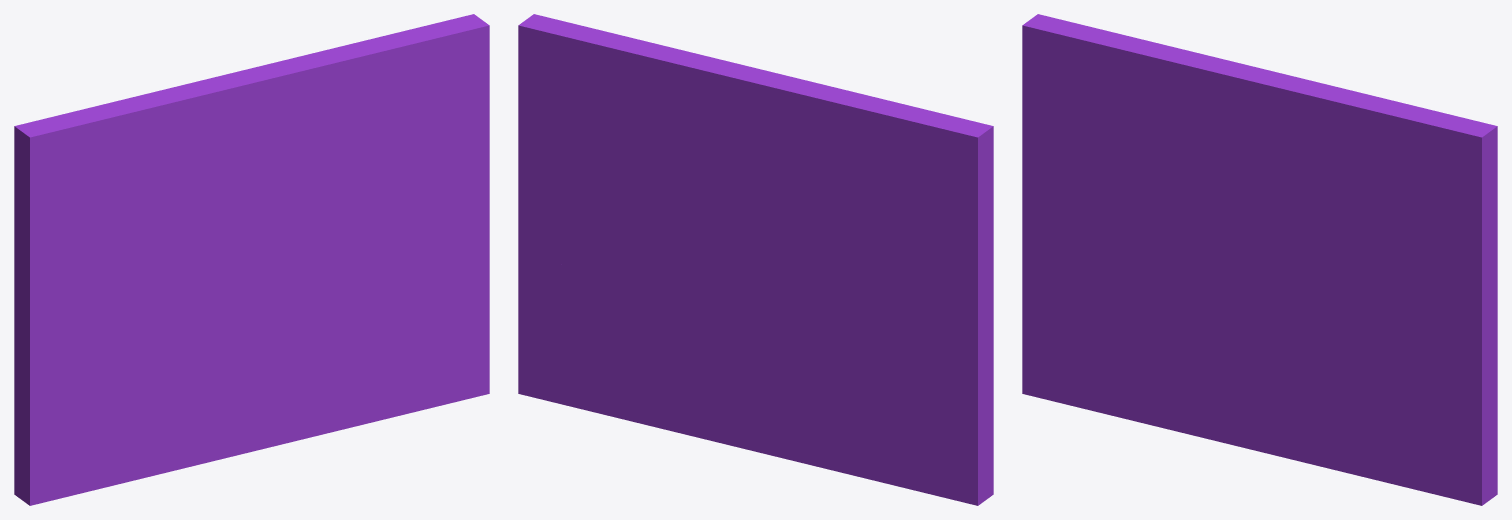
The model's file is Barrier_210_chunks.fbx.
3 renders of one model, left to right at view 1: azimuth 30°, elevation 25°; view 2: azimuth 150°, elevation 25°; view 3: azimuth 330°, elevation 25°, orthographic.
Parts seen in each view (by area): view 1: Barrier_210_0, Barrier_210_2, Barrier_210_5, Barrier_210_4, Barrier_210_3, Barrier_210_6, Barrier_210_1; view 2: Barrier_210_0, Barrier_210_2, Barrier_210_4, Barrier_210_5, Barrier_210_6; view 3: Barrier_210_0, Barrier_210_2, Barrier_210_5, Barrier_210_4, Barrier_210_3, Barrier_210_6, Barrier_210_1.
Boxes of the visible parts, box(x1,y1,x2,y2) form: Barrier_210_0: box(14, 84, 240, 505); Barrier_210_2: box(188, 14, 489, 263); Barrier_210_5: box(297, 260, 489, 440); Barrier_210_4: box(100, 342, 308, 488); Barrier_210_3: box(204, 278, 333, 376); Barrier_210_6: box(267, 261, 454, 327); Barrier_210_1: box(236, 209, 290, 295); Barrier_210_0: box(747, 84, 993, 505); Barrier_210_2: box(518, 14, 820, 266); Barrier_210_4: box(680, 289, 903, 487); Barrier_210_5: box(518, 263, 697, 437); Barrier_210_6: box(546, 264, 762, 337); Barrier_210_0: box(1022, 14, 1232, 410); Barrier_210_2: box(1195, 56, 1497, 372); Barrier_210_5: box(1290, 356, 1497, 505); Barrier_210_4: box(1092, 315, 1300, 458); Barrier_210_3: box(1196, 281, 1325, 400); Barrier_210_6: box(1259, 278, 1446, 363); Barrier_210_1: box(1229, 200, 1282, 284).
Bounding box in the file's own units: 376 × 288 × 22.1.
